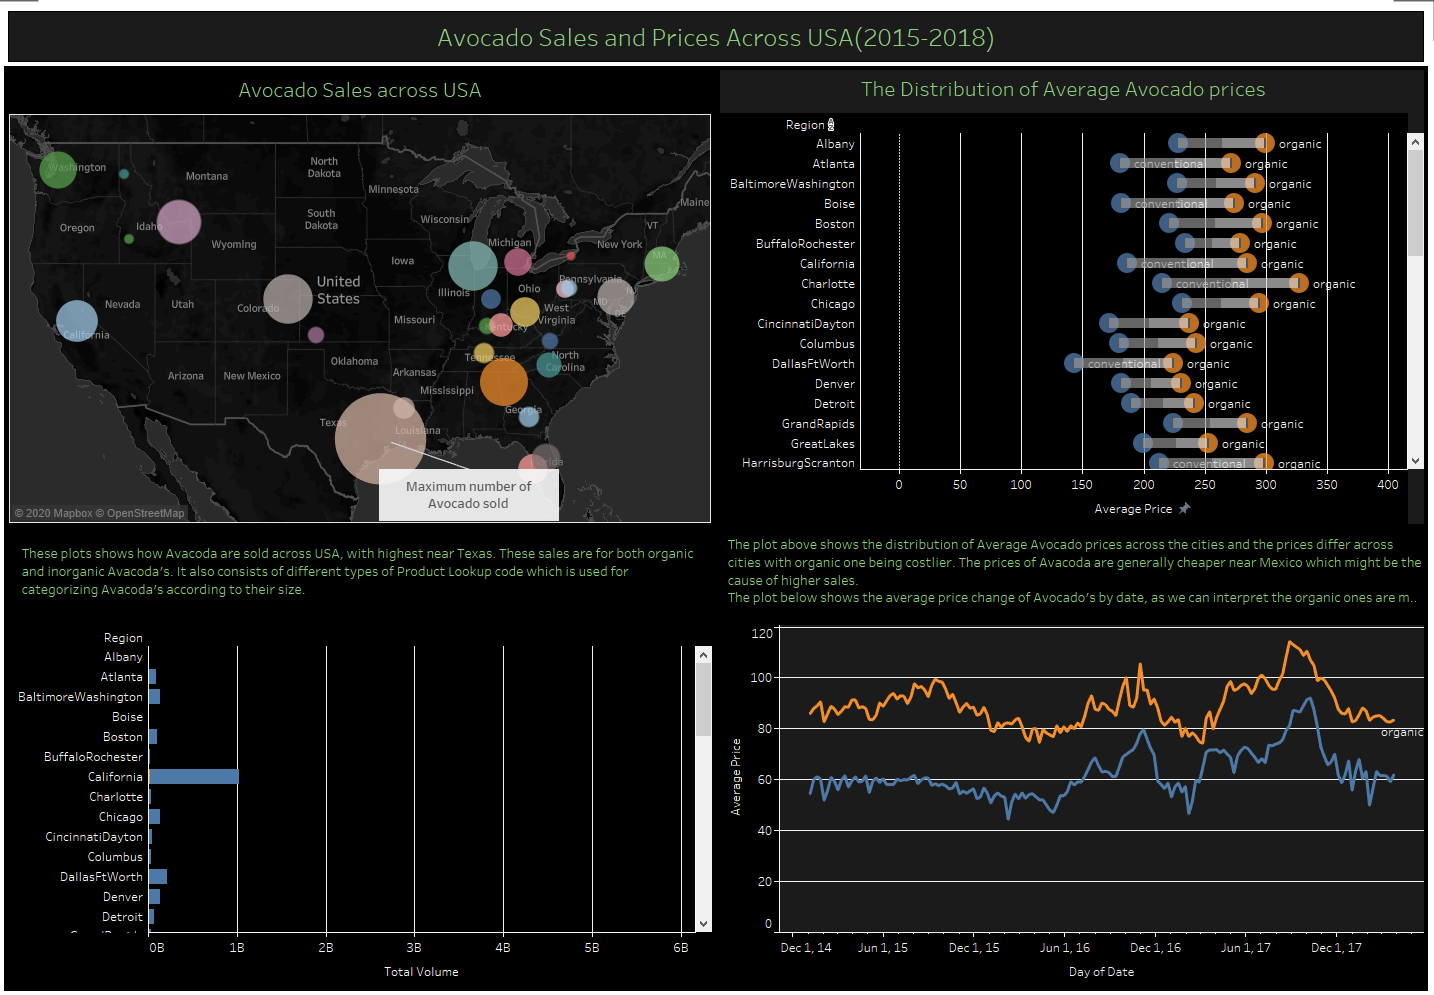

Layout of this report page (visuals, bound fields, positions):
{"tool":"tableau","page":{"name":"Dashboard 1","canvas":[1000,800],"ordinal":0},"visuals":[{"type":"worksheet","title":"Avacado Sales","mark":"Automatic","rows":["Latitude"],"cols":["Longitude"],"box":[8,8,492,392]},{"type":"worksheet","title":"Distribution of Average Avacado prices","mark":"Circle","rows":["region"],"cols":["AveragePrice"],"box":[500,8,492,392]},{"type":"worksheet","title":"Total sales","mark":"Automatic","rows":["region"],"cols":["Total Volume"],"box":[8,400,492,392]},{"type":"worksheet","title":"Average price","mark":"Automatic","rows":["AveragePrice"],"cols":["Date"],"box":[500,400,492,392]}]}

Visuals, with their boxes on the page's 1000x800 design canvas (x1, y1, x2, y2). These are canvas units, not pixel positions in the 1434x995 screenshot, which may show the page scaled, cropped or inside an application window:
"Avacado Sales" worksheet: Rect(8, 8, 500, 400)
"Distribution of Average Avacado prices" worksheet (Circle marks): Rect(500, 8, 992, 400)
"Total sales" worksheet: Rect(8, 400, 500, 792)
"Average price" worksheet: Rect(500, 400, 992, 792)
